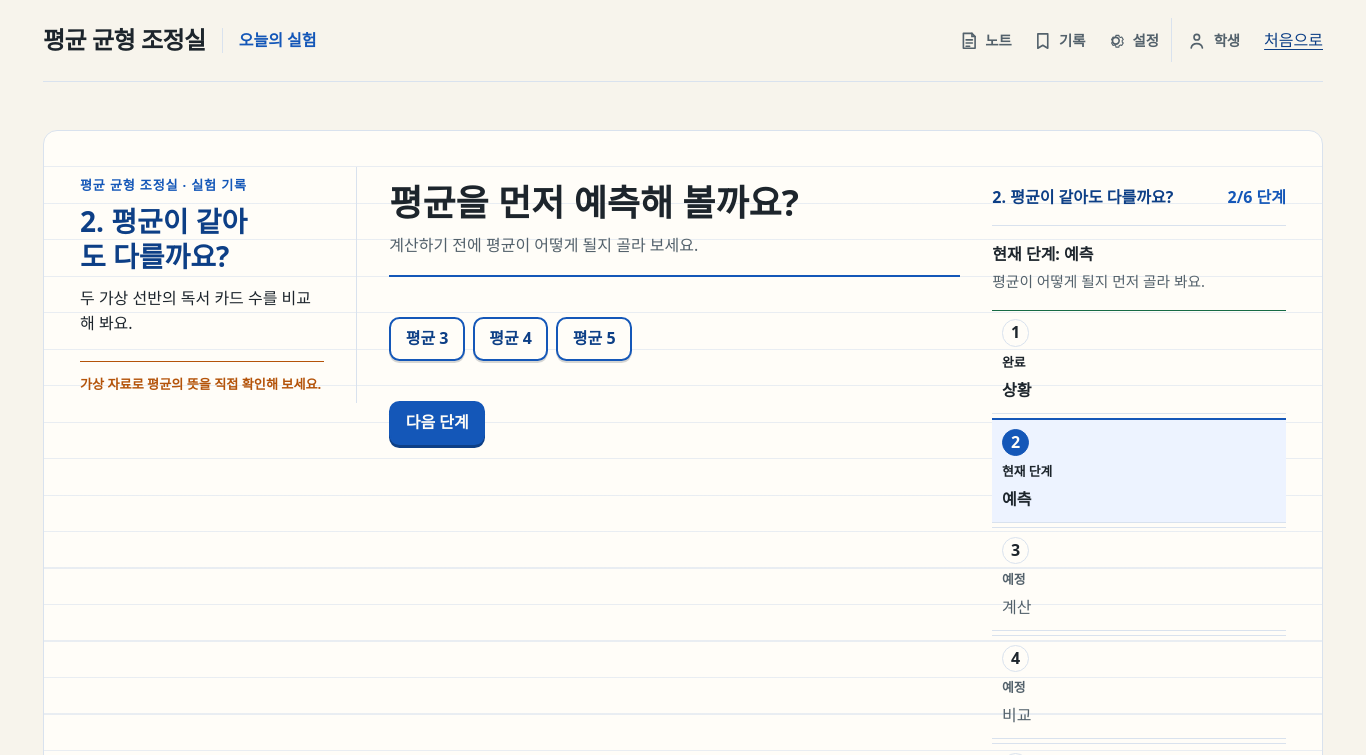
Scenario: learning router › opens calculation after a twin prediction while later stages stay locked
Click the button "평균 4".
click(511, 339)  # box 473,317 -> 548,361
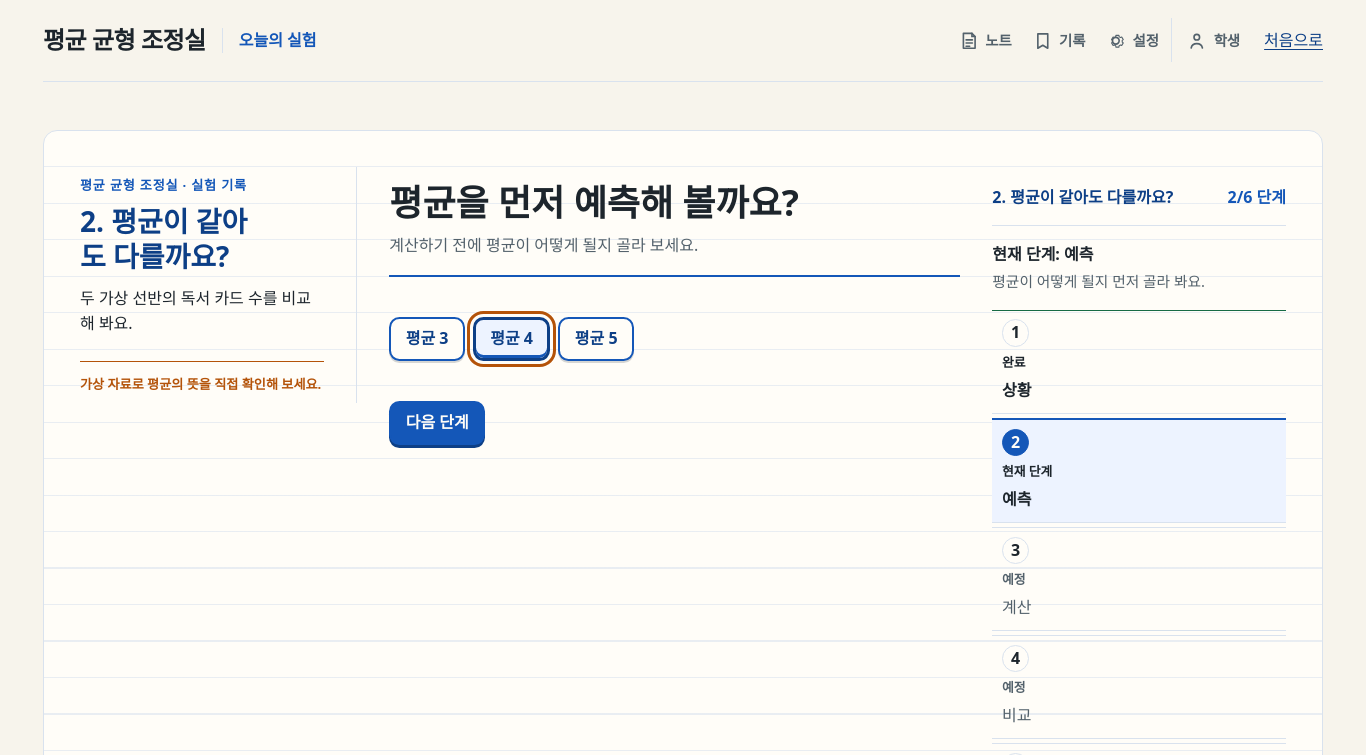
Click the button "다음 단계".
click(437, 423)  # box 389,401 -> 485,445
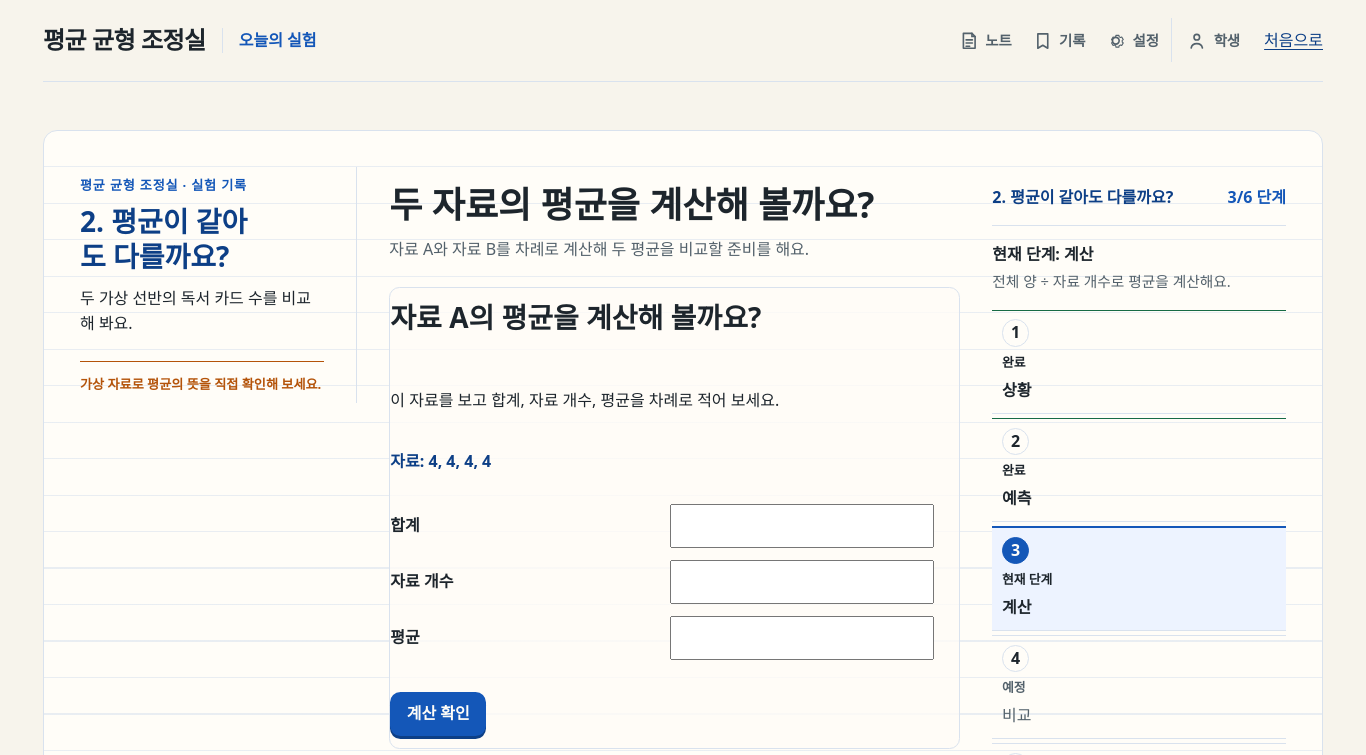
Expected: the heading "두 자료의 평균을 계산해 볼까요?" is shown, 389,180 -> 874,229
Expected: the number of number fields labelled "합계" is 2
